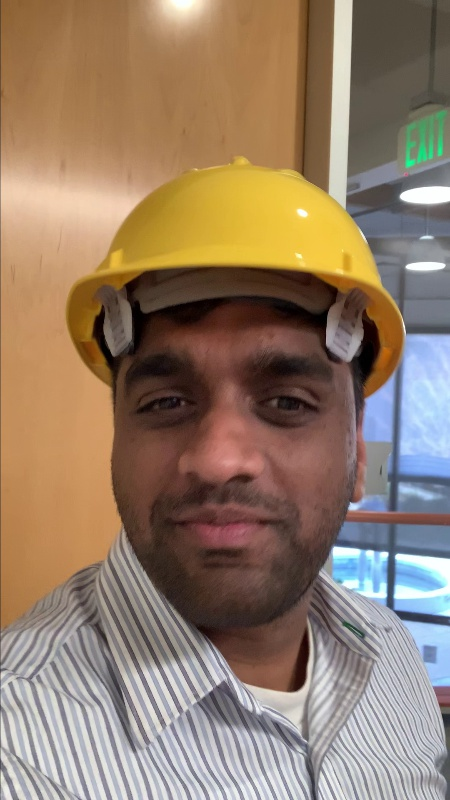helmet: (58, 152, 407, 366)
